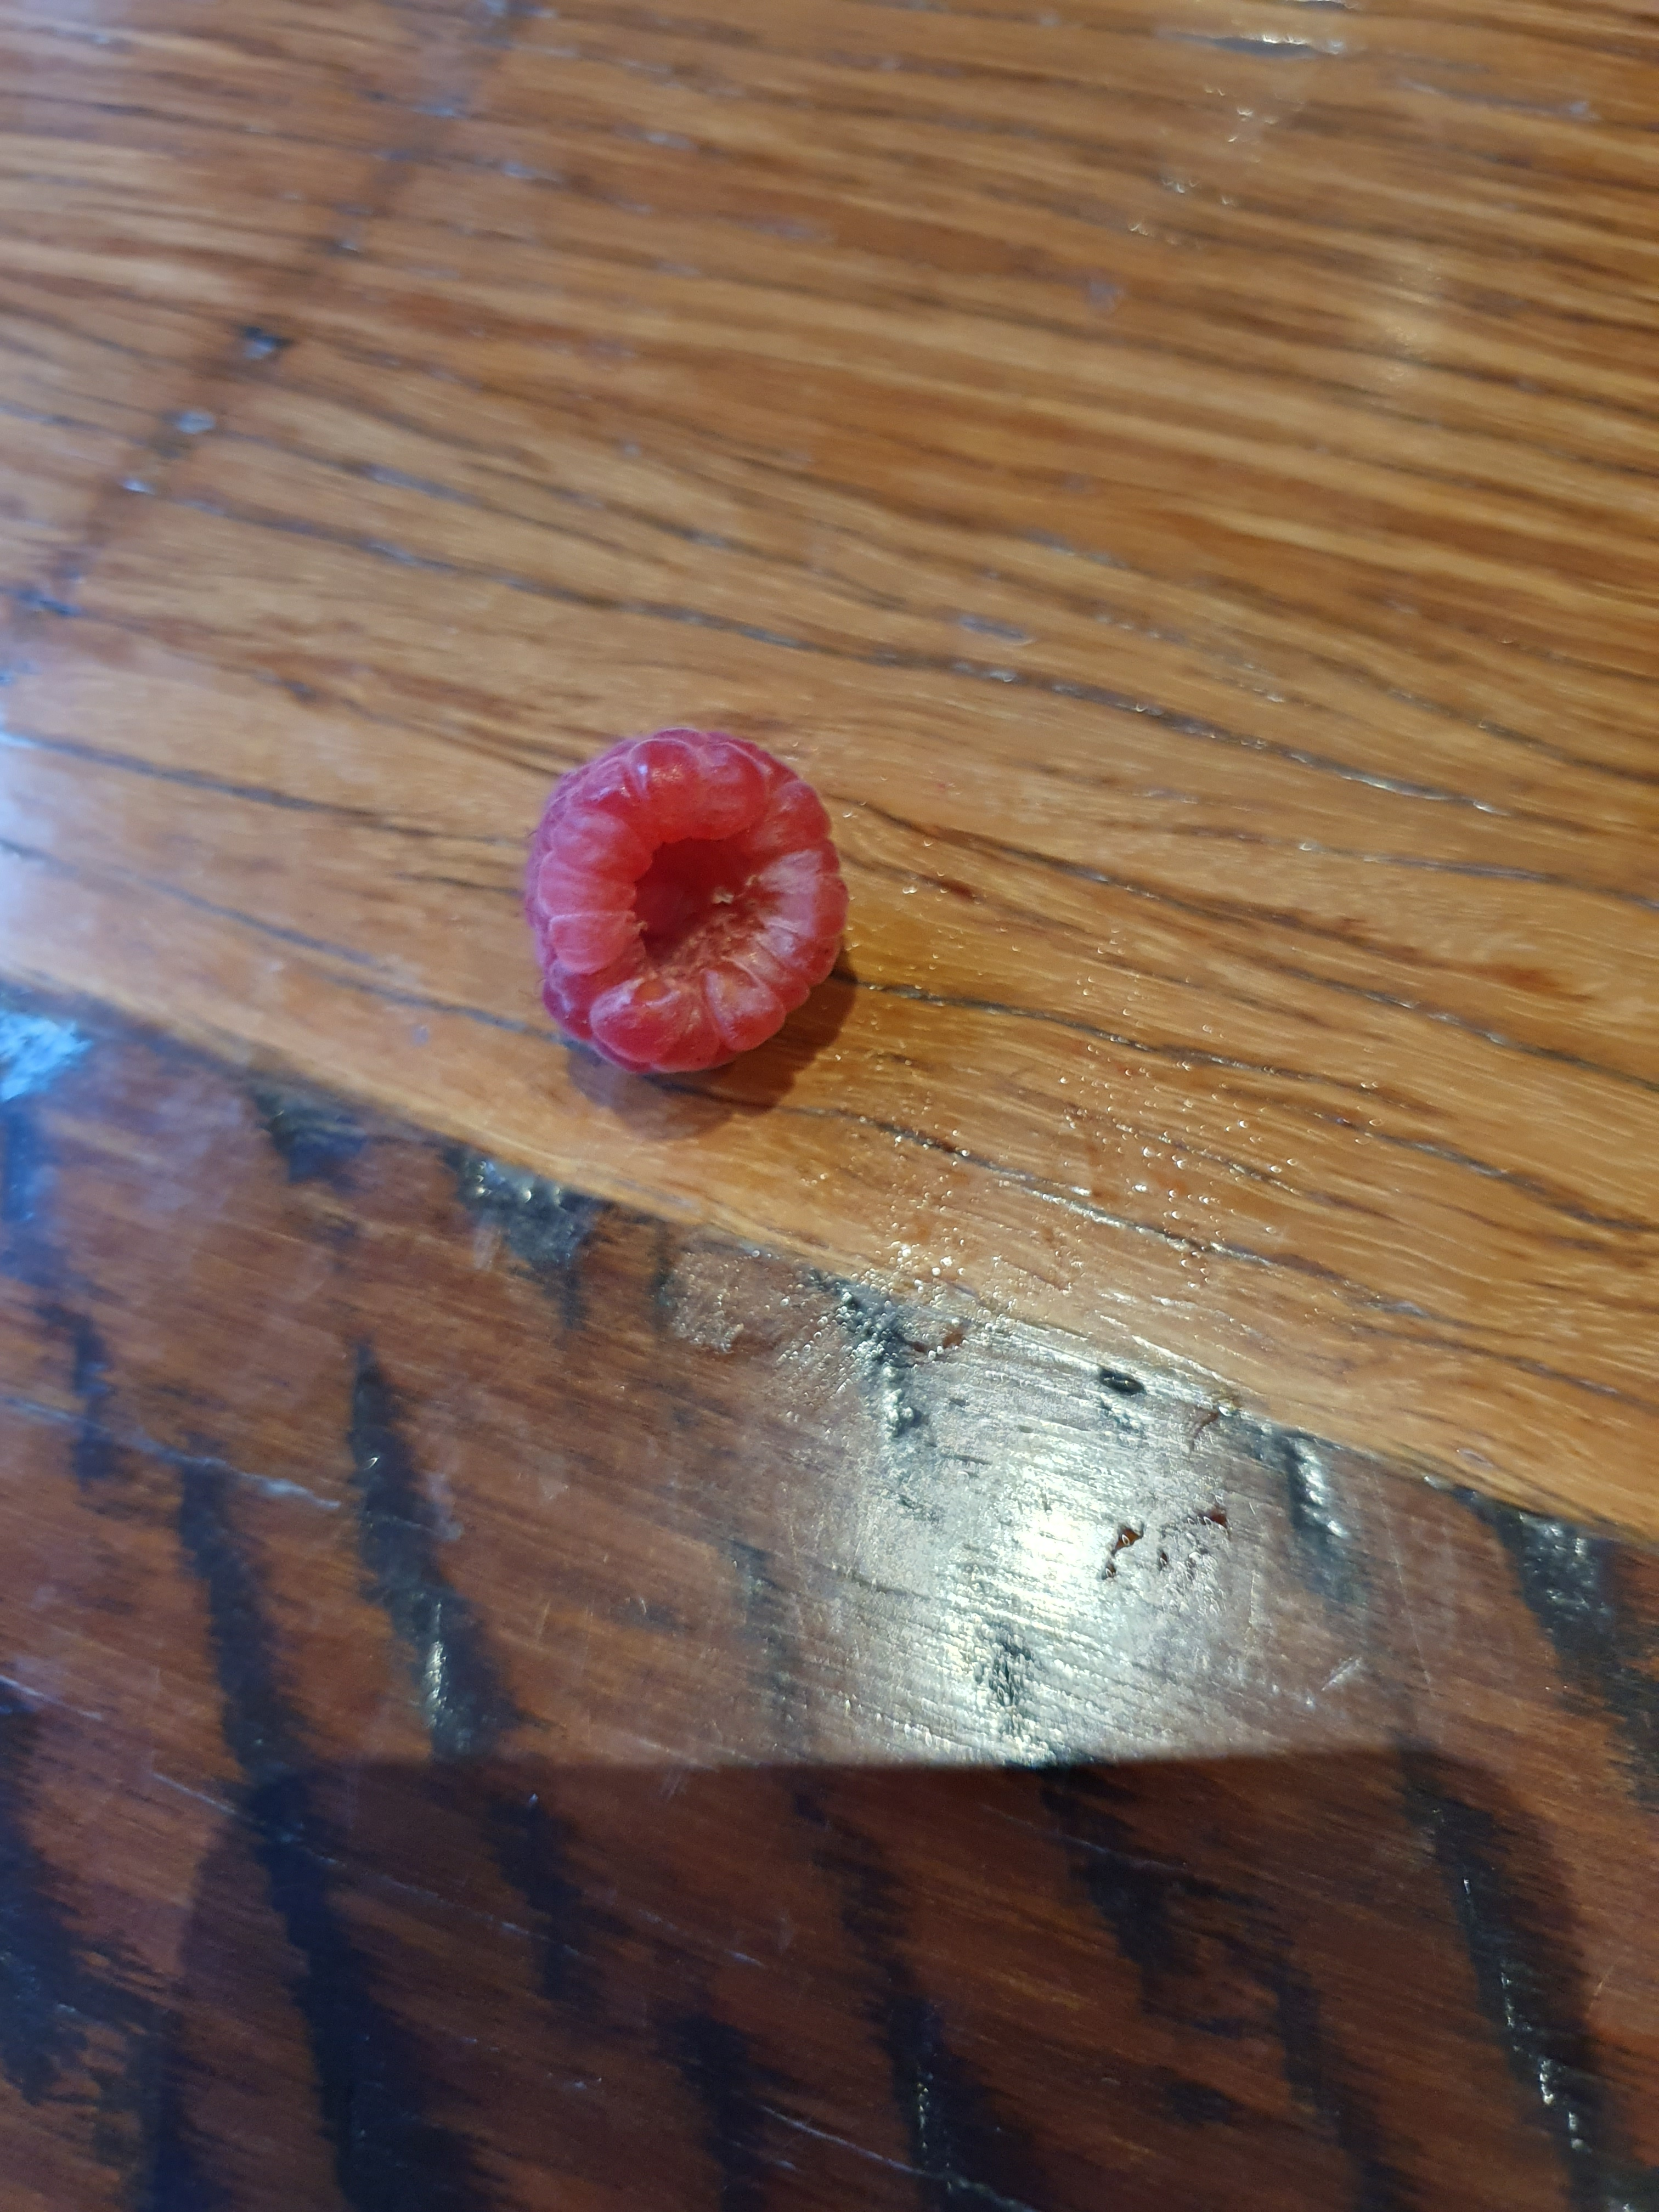raspberry: (467, 686, 877, 1132)
